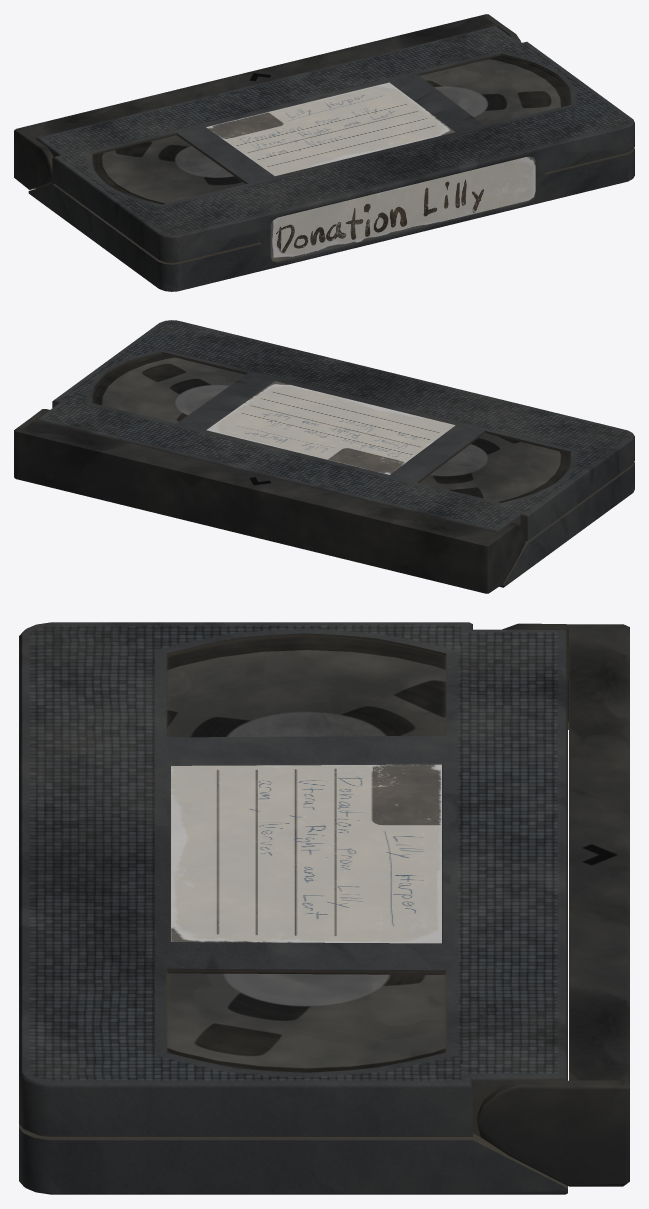
The model's file is vhs_tape.glb.
3 views of the same model, one above another, from view 1: azimuth 30°, elevation 25°; view 2: azimuth 150°, elevation 25°; view 3: azimuth 270°, elevation 25° (orthographic). The views are drawn at different scales.
Parts seen in each view (by area): view 1: VHS; view 2: VHS; view 3: VHS.
Boxes of the visible parts, box(x1,y1,x2,y2) form: VHS: box(14, 14, 634, 291); VHS: box(14, 320, 634, 593); VHS: box(19, 622, 629, 1194).
Size of what is drawn, in the model's own units: 7.18 by 0.7976 by 3.99.
Materials: 2 (2 with a texture image).
